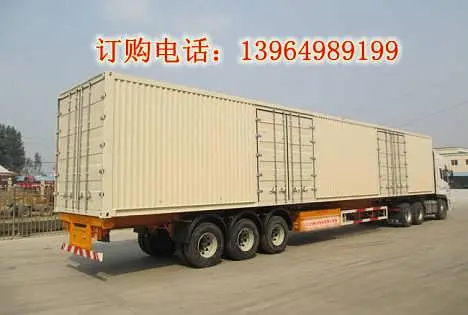bigtruck: (48, 66, 456, 271)
